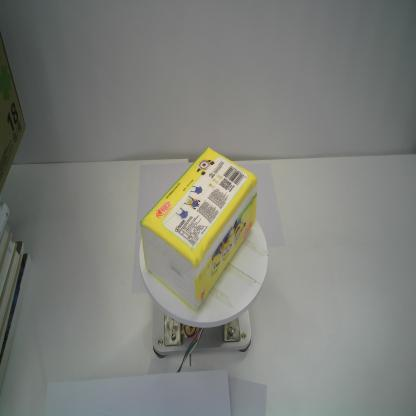Tissue: (139, 146, 260, 312)
